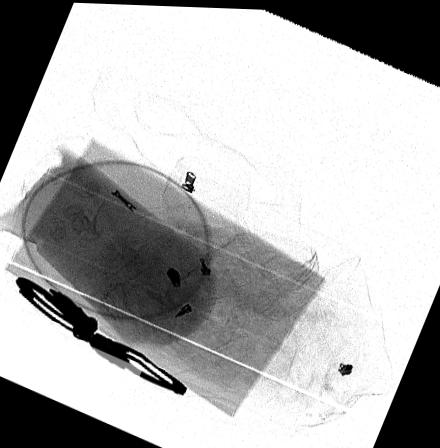HandCuffs: (15, 276, 186, 394)
